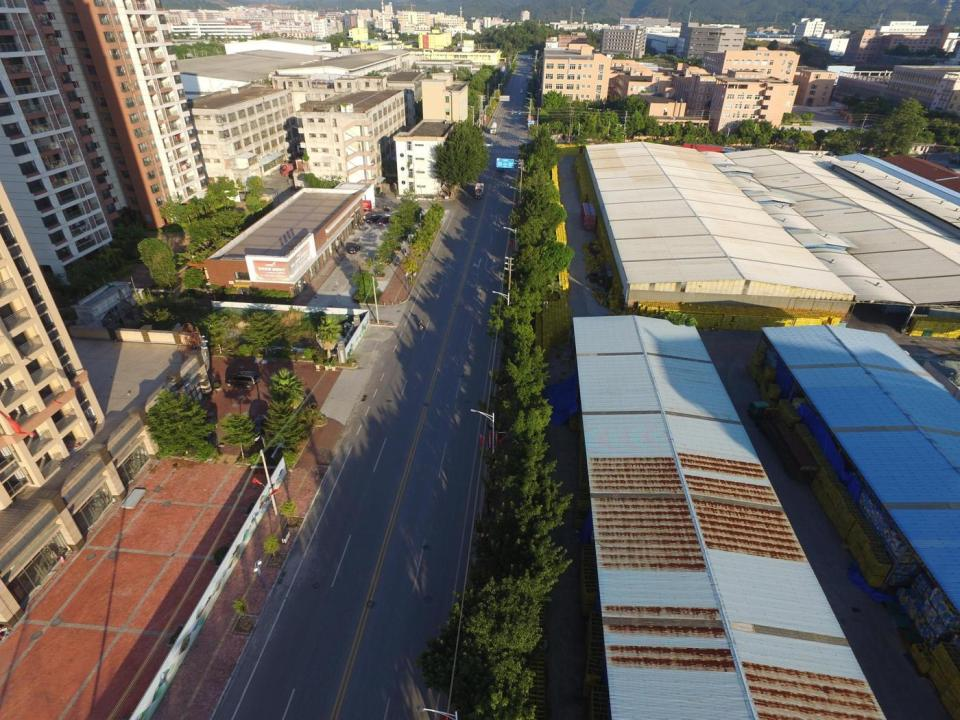car: (242, 411, 271, 443), (224, 371, 261, 389), (375, 215, 392, 226), (364, 214, 382, 223), (348, 245, 362, 254)
truck: (577, 201, 596, 232), (280, 161, 294, 177), (474, 182, 485, 199), (490, 121, 498, 135)
